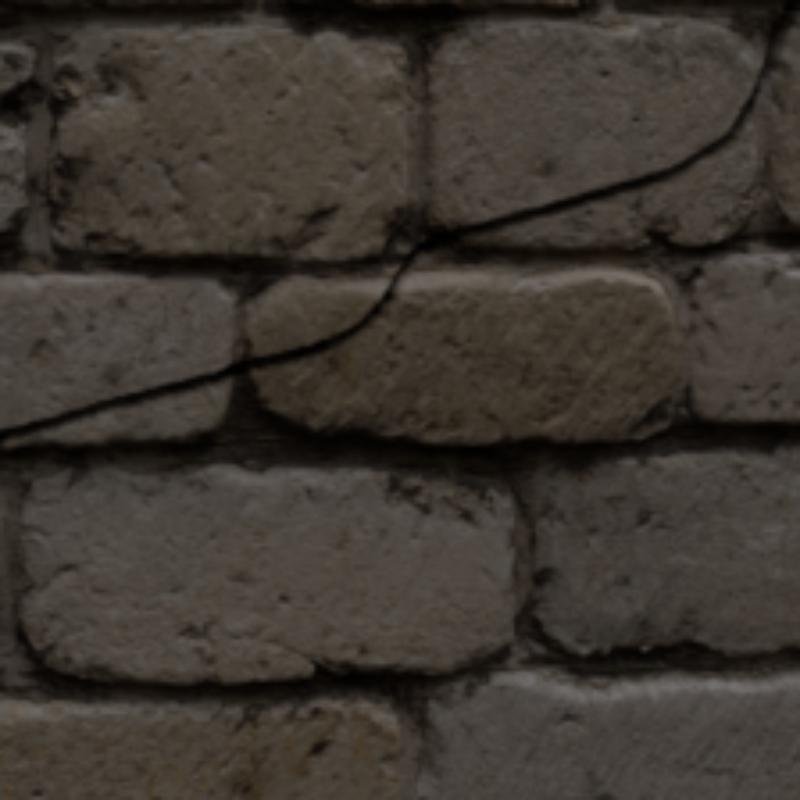pothole: (0, 0, 796, 443)
